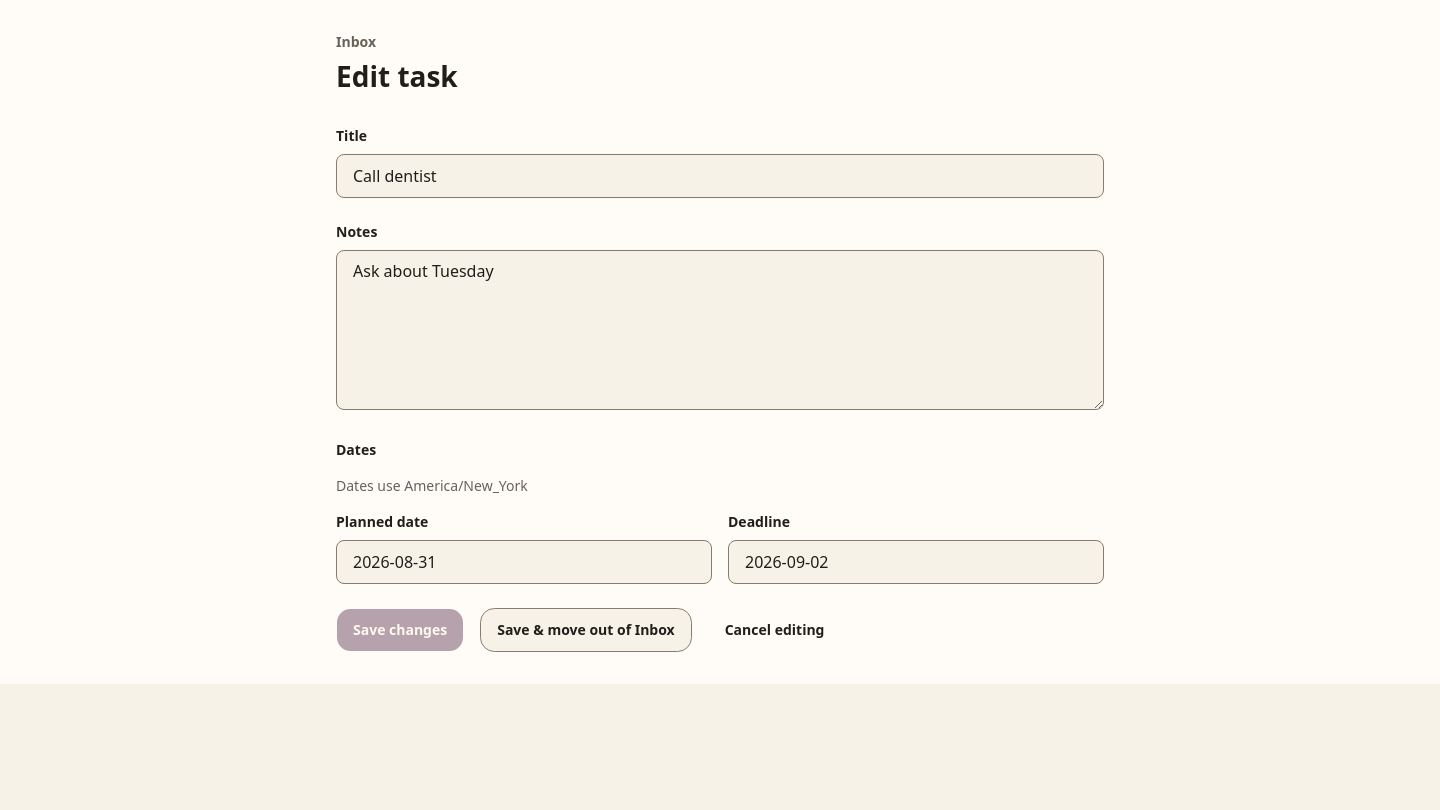
Scenario: canonical task editor › sends only touched notes with their base value and never saves on blur
The width and height of the screenshot is (1440, 810).
Replace the text in the text box labelled "Notes" with "Ask about Wednesday" at (720, 330), box [336,250,1104,410]
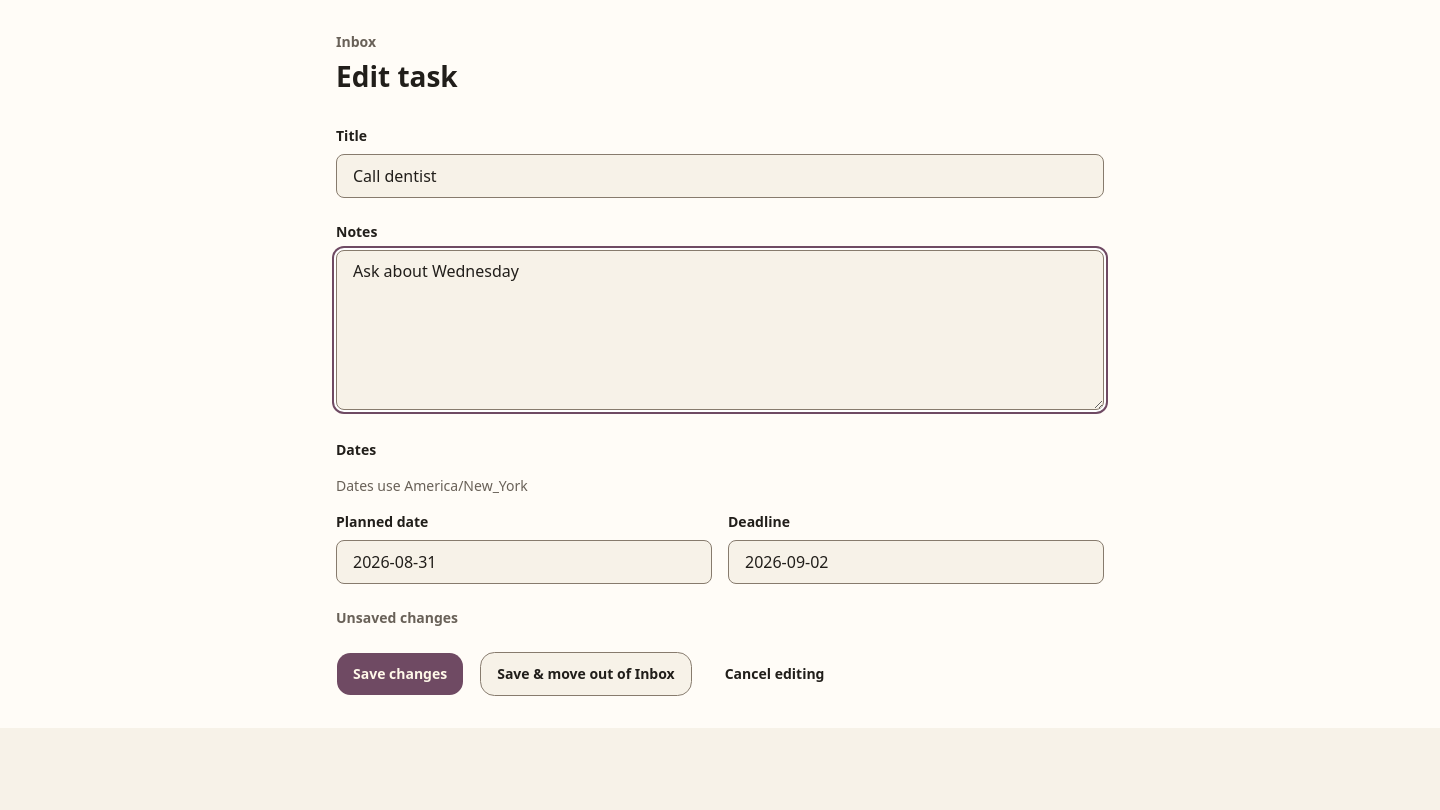
Press Tab
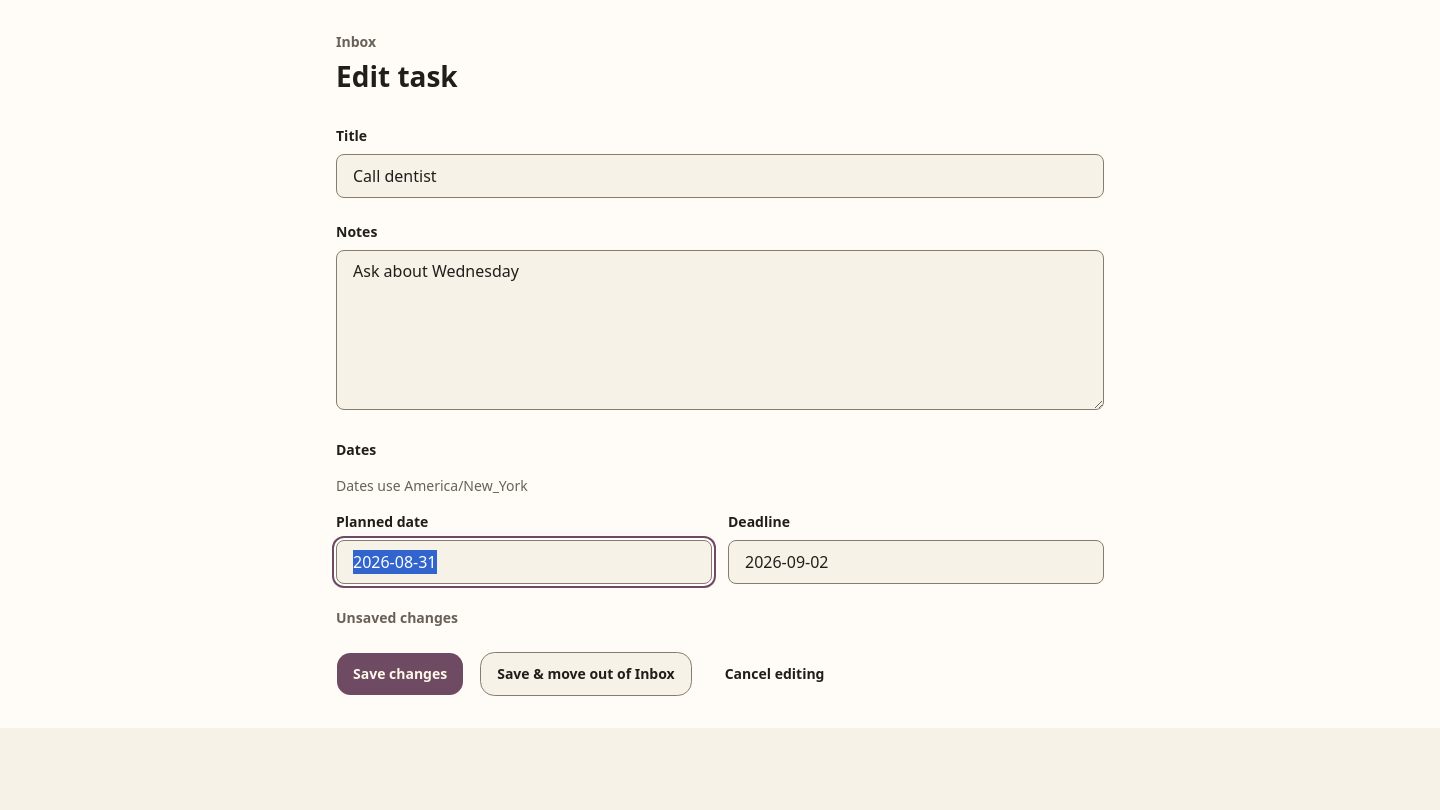
Click the button "Save changes" at (400, 674), box [336,652,464,696]
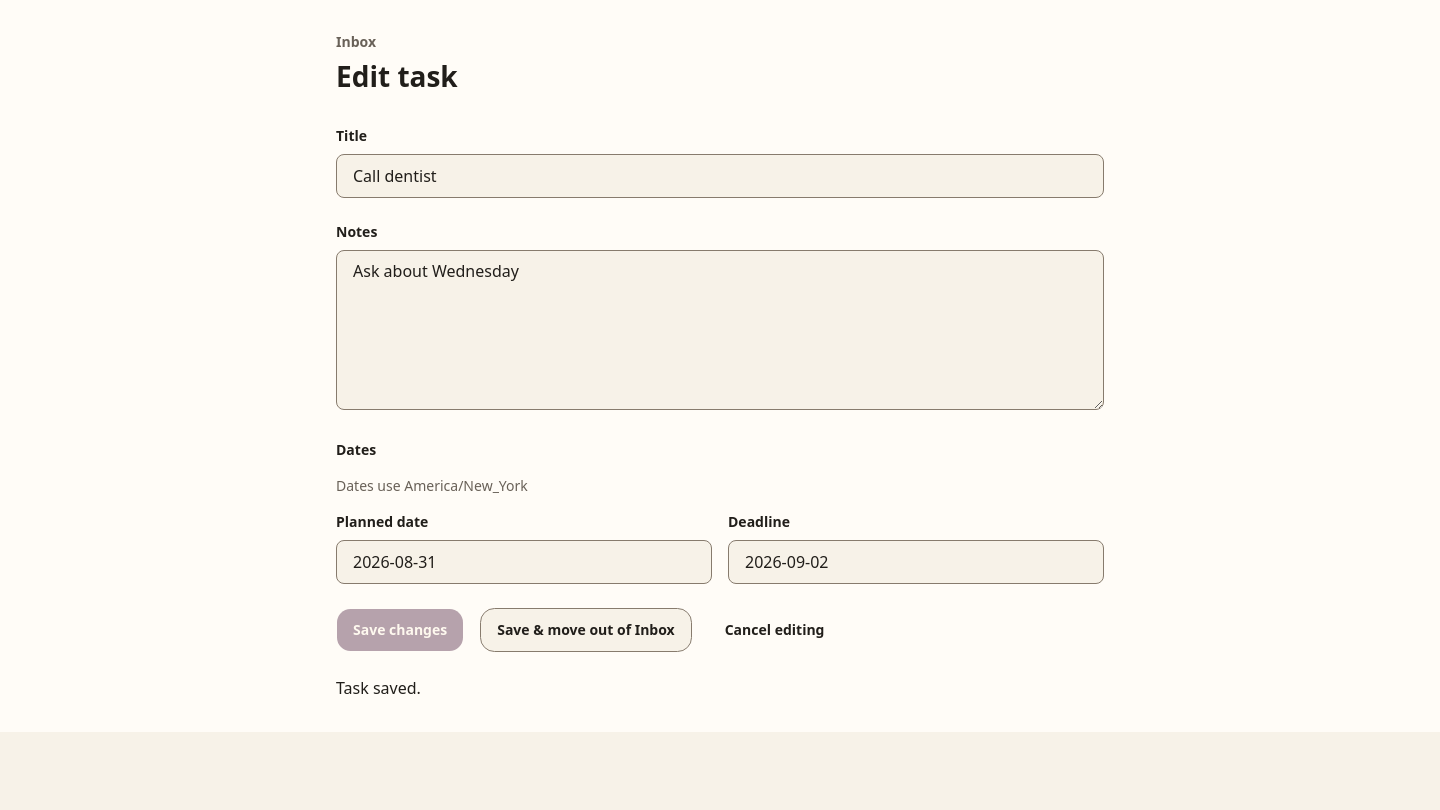
expect the message reads "Task saved.": met, box [336,677,421,699]
